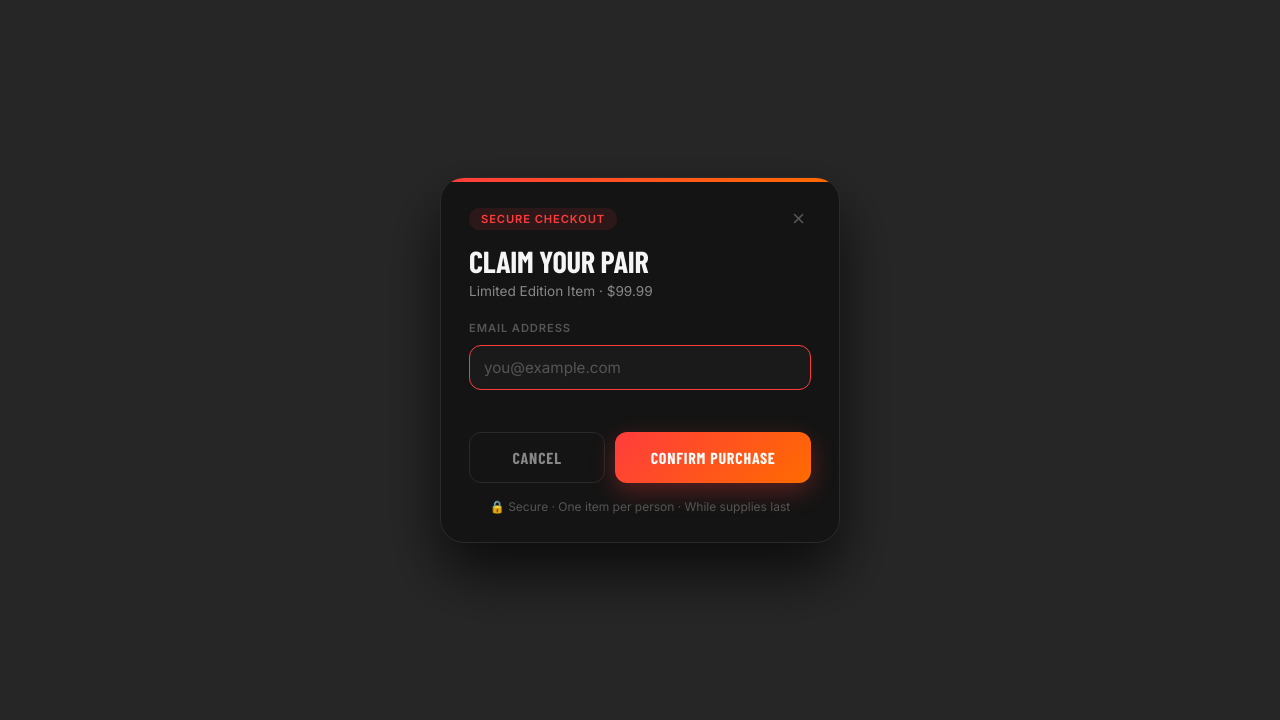
Test: PurchaseModal › surfaces a rate-limit message and keeps the form open
In the field labelled "Email address": (640, 367) [469, 345, 811, 390], type "buyer@example.com"
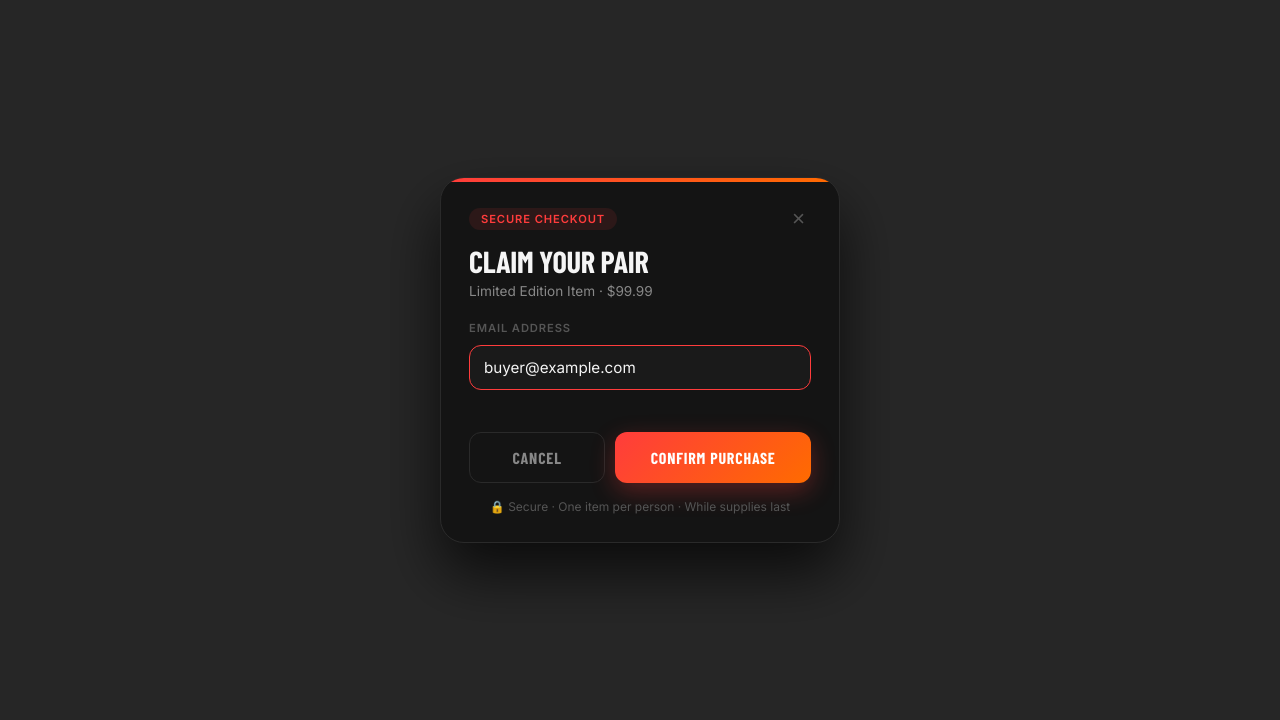
Click the button "Confirm purchase": (713, 458) [615, 432, 811, 483]
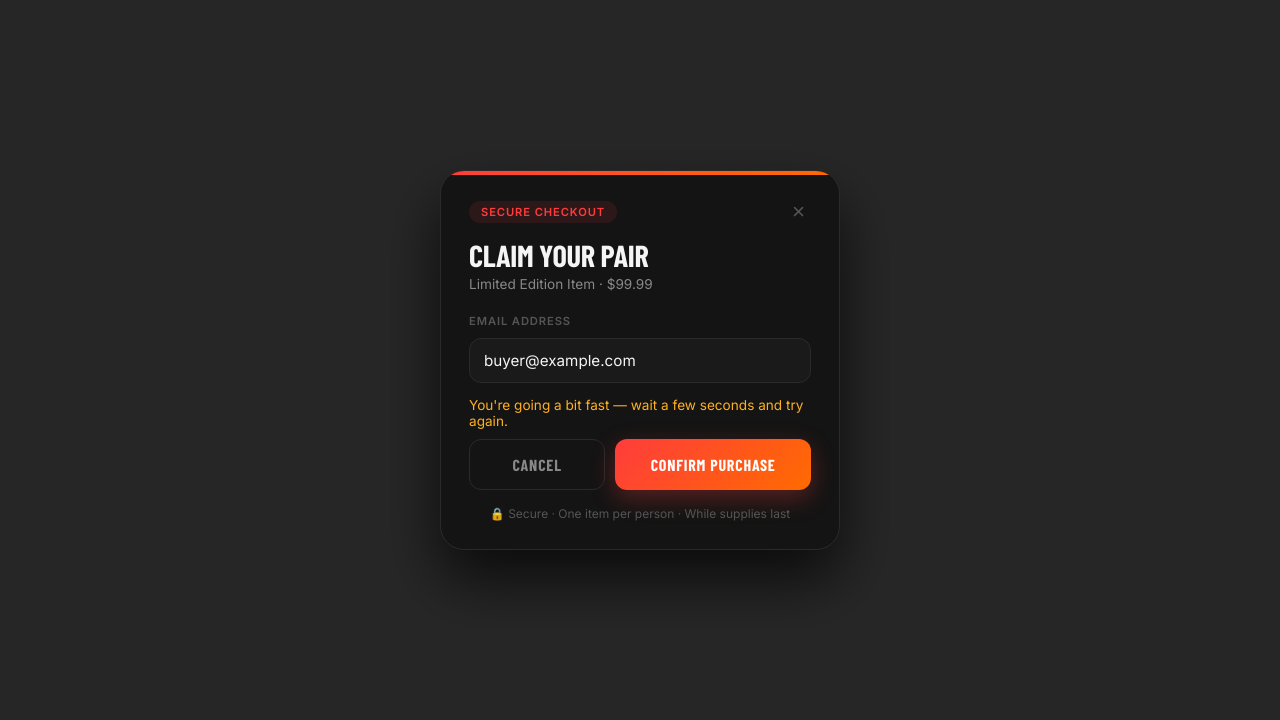
Check: the text "You're going a bit fast — wait a few seconds and try again." is shown, box [469, 397, 811, 429]
